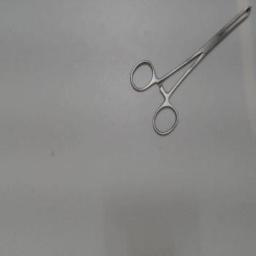Allis Tissue Forceps: (124, 2, 254, 140)
